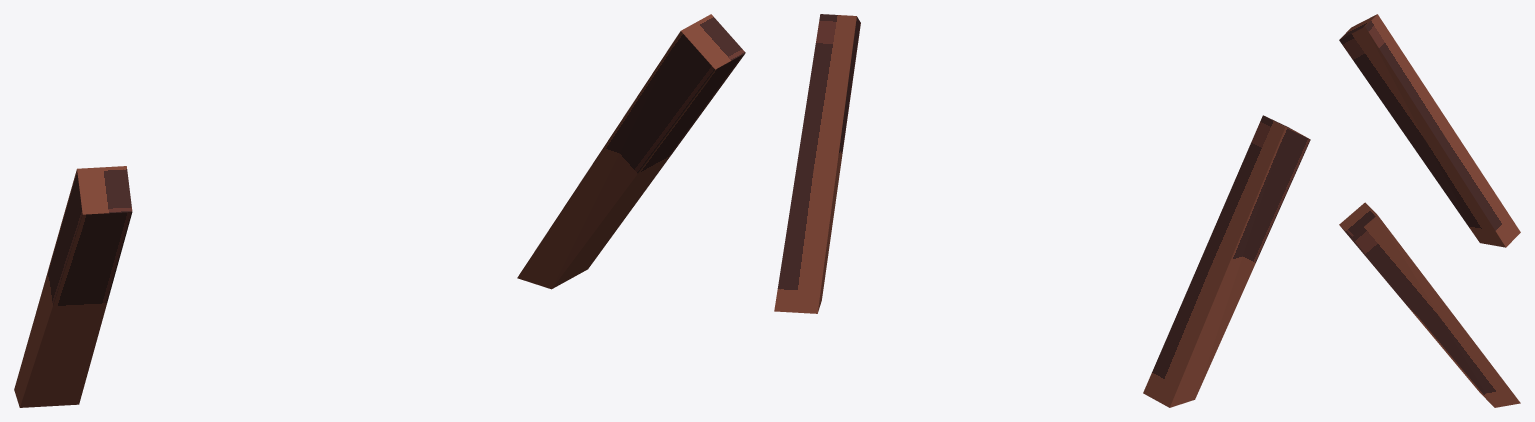
The model's file is shield_controller_solid_legs.obj.
The picture shows the model from 3 angles, left to right: view 1: azimuth 30°, elevation 25°; view 2: azimuth 150°, elevation 25°; view 3: azimuth 270°, elevation 25°; orthographic projection. The views are drawn at different scales.
Visible parts, largest first — view 1: right_leg; view 2: right_leg; view 3: right_leg.
Boxes of the visible parts, left/top/right/bottom form: right_leg: left=14, top=14, right=745, bottom=407; right_leg: left=774, top=14, right=1310, bottom=407; right_leg: left=1339, top=14, right=1520, bottom=407.
Size of the model in its own units: 1.95 by 0.8811 by 0.7141.
